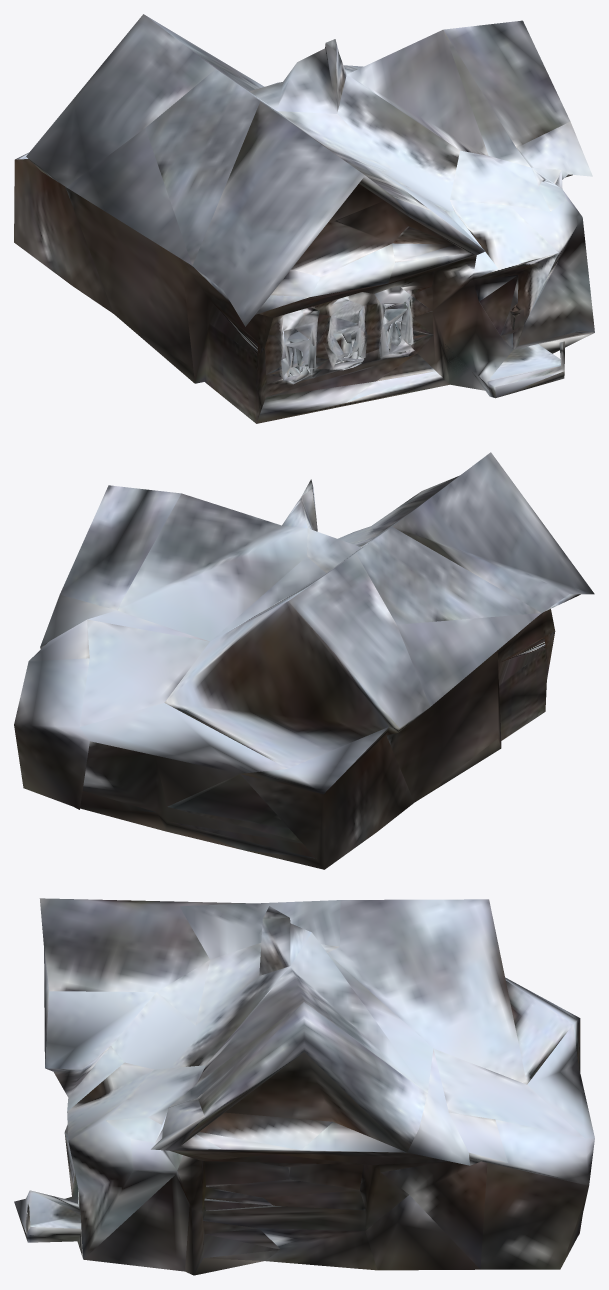
The model's file is house_log_lo.glb.
3 views of the same model, one above another, from view 1: azimuth 30°, elevation 25°; view 2: azimuth 150°, elevation 25°; view 3: azimuth 270°, elevation 25° (orthographic). The views are drawn at different scales.
Visible parts, largest first — view 1: tripo_node_86d76e71-0406-415a-abae-47992bfba2a1; view 2: tripo_node_86d76e71-0406-415a-abae-47992bfba2a1; view 3: tripo_node_86d76e71-0406-415a-abae-47992bfba2a1.
Boxes of the visible parts, x1=… form: tripo_node_86d76e71-0406-415a-abae-47992bfba2a1: x1=14, y1=14, x2=594, y2=423; tripo_node_86d76e71-0406-415a-abae-47992bfba2a1: x1=14, y1=452, x2=594, y2=869; tripo_node_86d76e71-0406-415a-abae-47992bfba2a1: x1=14, y1=898, x2=594, y2=1275.
Size of the model in its own units: 0.801 by 0.5244 by 0.9759.
Materials: 1 (1 with a texture image).
